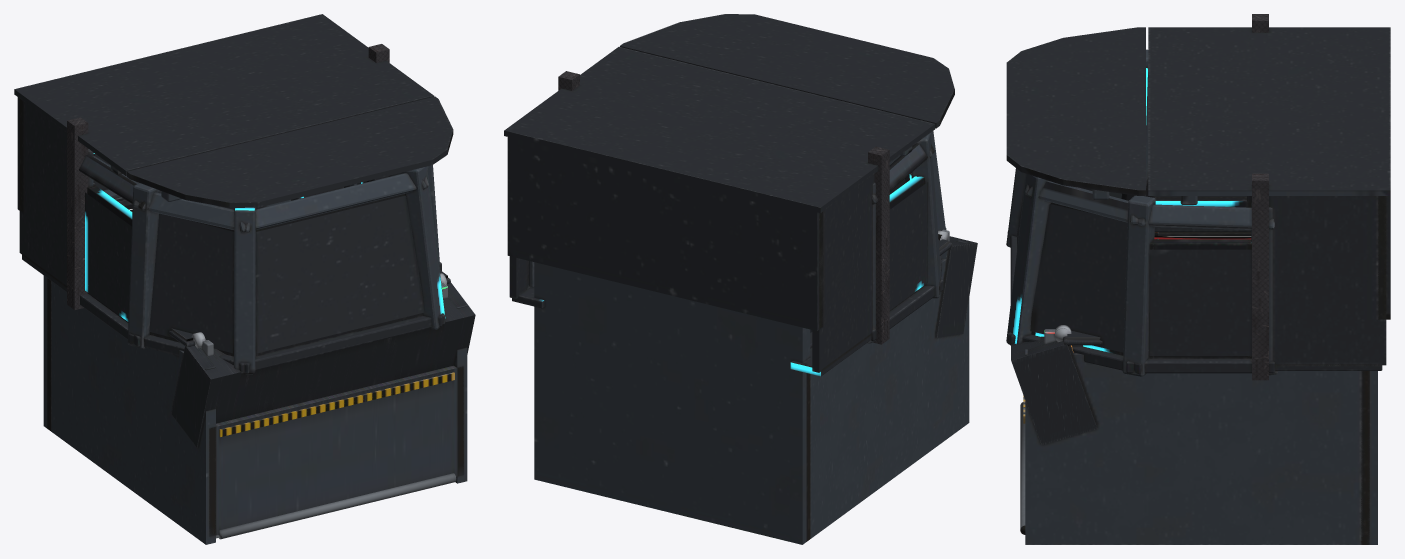
The model's file is cockpit_wall.gltf.
3 renders of one model, left to right at view 1: azimuth 30°, elevation 25°; view 2: azimuth 150°, elevation 25°; view 3: azimuth 270°, elevation 25°, orthographic. The views are drawn at different scales.
Visible parts, largest first — view 1: pod_cabin, INNER_front_cabin, INNER_sill_cabin, CONSOLE_front_front, INNER_side_R_cabin, pod_shell; view 2: pod_cabin, INNER_front_cabin, pod_shell, CONSOLE_front_front; view 3: pod_cabin, INNER_front_cabin, INNER_side_L_cabin, CONSOLE_front_front, pod_shell.
Boxes of the visible parts, bbox=[...] form: pod_cabin: bbox=[14, 14, 467, 544]; INNER_front_cabin: bbox=[127, 96, 453, 373]; INNER_sill_cabin: bbox=[209, 365, 463, 536]; CONSOLE_front_front: bbox=[168, 270, 475, 447]; INNER_side_R_cabin: bbox=[128, 213, 250, 373]; pod_shell: bbox=[67, 44, 389, 309]; pod_cabin: bbox=[504, 46, 969, 544]; INNER_front_cabin: bbox=[620, 14, 954, 229]; pod_shell: bbox=[558, 71, 889, 344]; CONSOLE_front_front: bbox=[810, 229, 977, 337]; pod_cabin: bbox=[1006, 27, 1390, 544]; INNER_front_cabin: bbox=[1006, 27, 1145, 344]; INNER_side_L_cabin: bbox=[1007, 202, 1141, 374]; CONSOLE_front_front: bbox=[1011, 325, 1102, 445]; pod_shell: bbox=[1252, 14, 1268, 380].
Bounding box in the file's own units: 1.88 × 1.99 × 1.83.
Materials: 10 (9 with a texture image).
